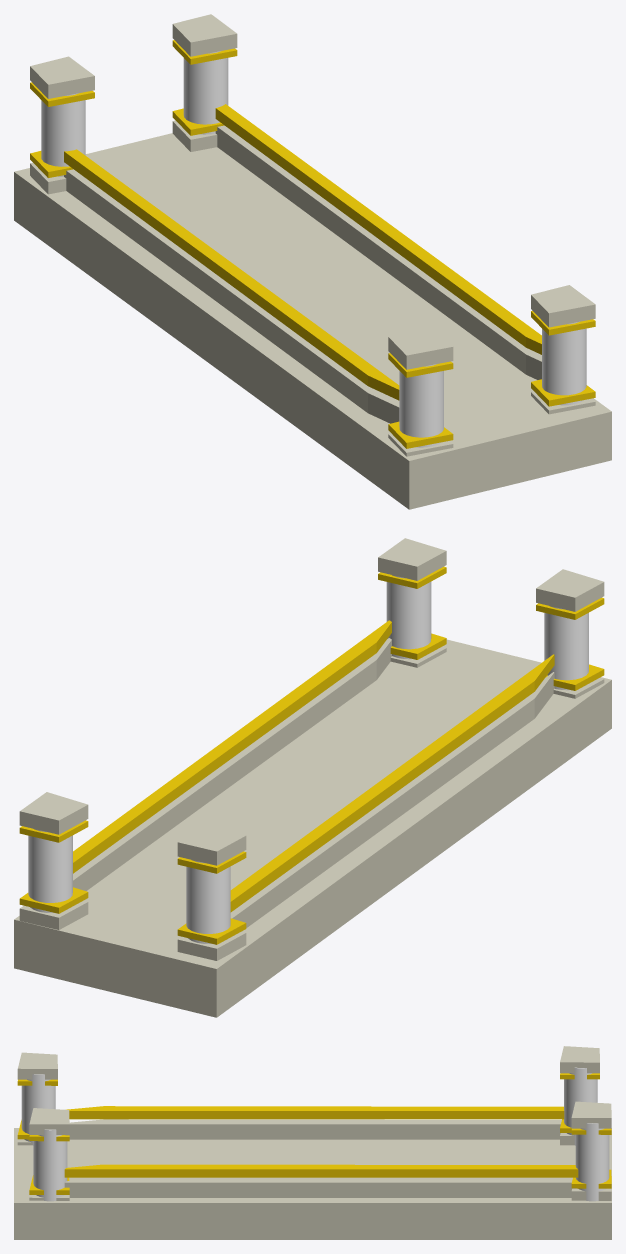
File: SM_W_Bridge.fbx
3 renders of one model, top to bottom at view 1: azimuth 30°, elevation 25°; view 2: azimuth 150°, elevation 25°; view 3: azimuth 270°, elevation 25°, orthographic. The views are drawn at different scales.
Visible parts, largest first — view 1: New_Game_Object__7_1; view 2: New_Game_Object__7_1; view 3: New_Game_Object__7_1.
Part boxes in pixels (x1=…): New_Game_Object__7_1: x1=14, y1=14, x2=611, y2=509; New_Game_Object__7_1: x1=14, y1=538, x2=611, y2=1017; New_Game_Object__7_1: x1=14, y1=1046, x2=611, y2=1239.
Size of the model in its own units: 170 by 127 by 574.
